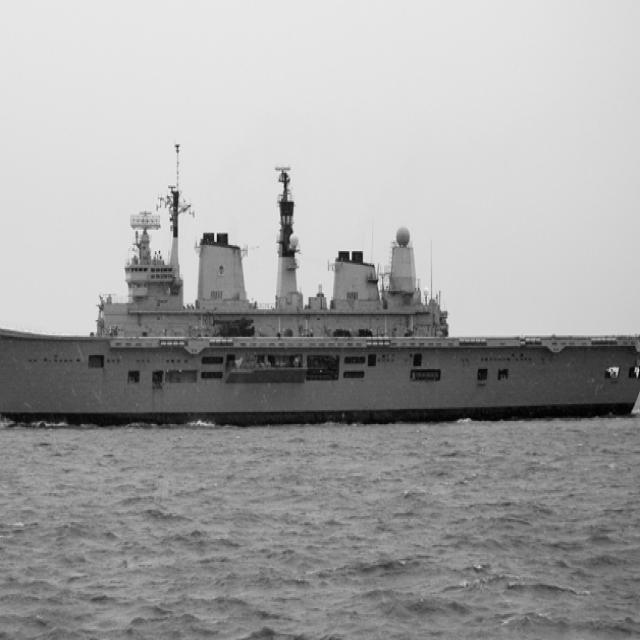Portanaves: (1, 139, 640, 433)
